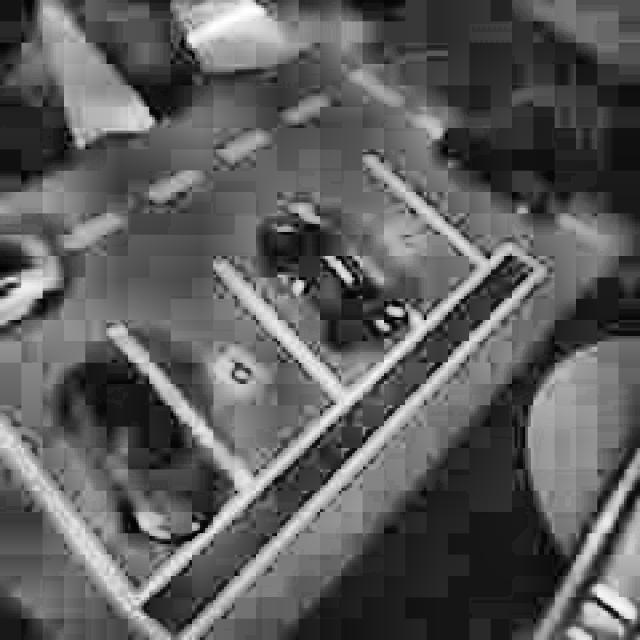car: (55, 346, 224, 556), (252, 200, 406, 366), (0, 219, 80, 333)
